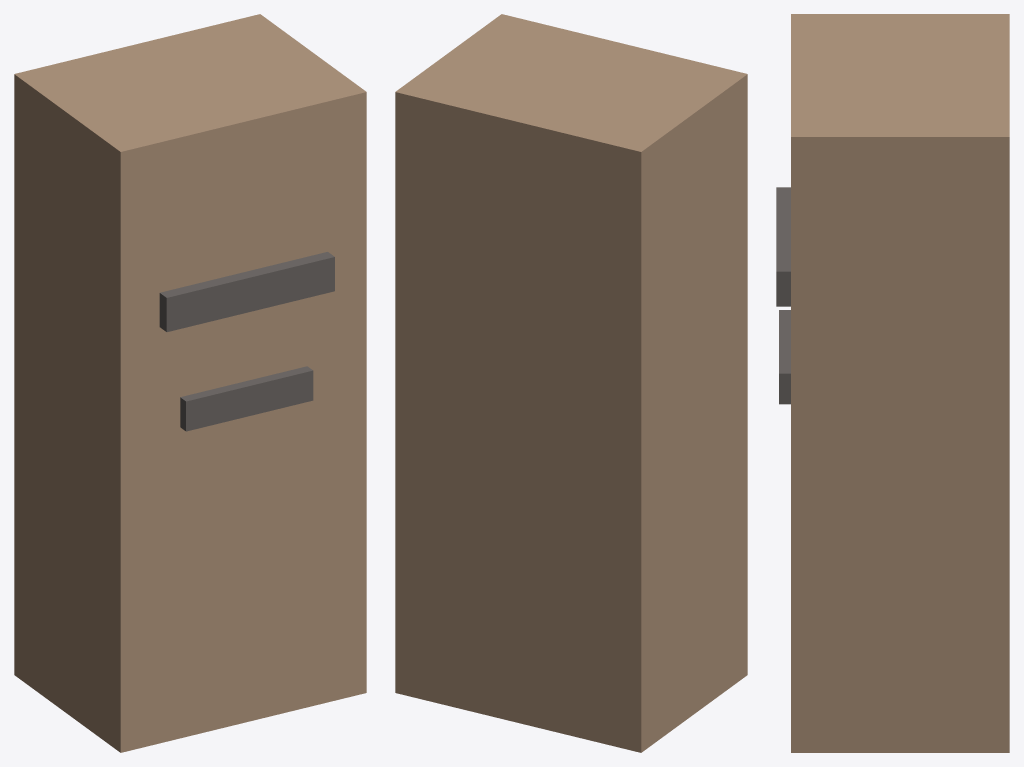
File: totem_mask.glb
The picture shows the model from 3 angles, left to right: view 1: azimuth 30°, elevation 25°; view 2: azimuth 150°, elevation 25°; view 3: azimuth 270°, elevation 25°; orthographic projection. The views are drawn at different scales.
Parts seen in each view (by area): view 1: world; view 2: world; view 3: world.
Part boxes in pixels (x1=…): world: x1=14, y1=14, x2=366, y2=752; world: x1=395, y1=14, x2=747, y2=752; world: x1=776, y1=14, x2=1009, y2=752.
Size of the model in its own units: 1.2 by 2.8 by 0.96.
